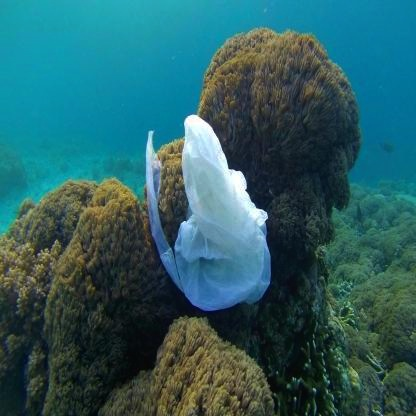pbag: (138, 109, 277, 314)
